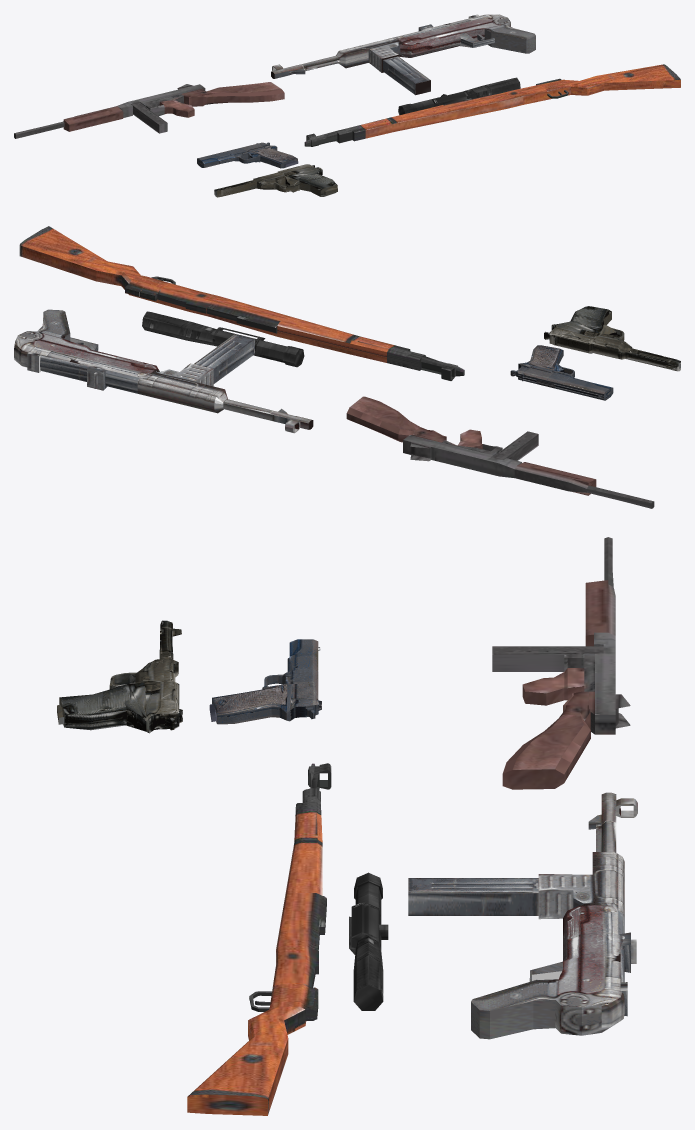
Rendered from WW2Guns.fbx.
The picture shows the model from 3 angles, top to bottom: view 1: azimuth 30°, elevation 25°; view 2: azimuth 150°, elevation 25°; view 3: azimuth 270°, elevation 25°; orthographic projection. The views are drawn at different scales.
Parts seen in each view (by area): view 1: Mp40, Kar98, Tommy, Walther, m1911, Scope; view 2: Mp40, Kar98, Tommy, Walther, Scope, m1911; view 3: Mp40, Kar98, Tommy, Walther, m1911, Scope.
Boxes of the visible parts, x1,y1,x2,y2 form: Mp40: (271,14,535,95); Kar98: (304,64,680,146); Tommy: (14,82,284,138); Walther: (214,164,337,197); m1911: (197,142,298,168); Scope: (398,77,520,115); Mp40: (14,309,313,433); Kar98: (19,226,464,380); Tommy: (346,396,654,508); Walther: (544,306,680,371); Scope: (142,311,304,367); m1911: (510,345,613,400); Mp40: (408,792,637,1039); Kar98: (187,763,331,1115); Tommy: (492,537,630,789); Walther: (57,620,182,733); m1911: (209,639,321,724); Scope: (349,872,388,1010).
Bounding box in the file's own units: 333 × 14.17 × 149.
7 materials, 7 textured.
